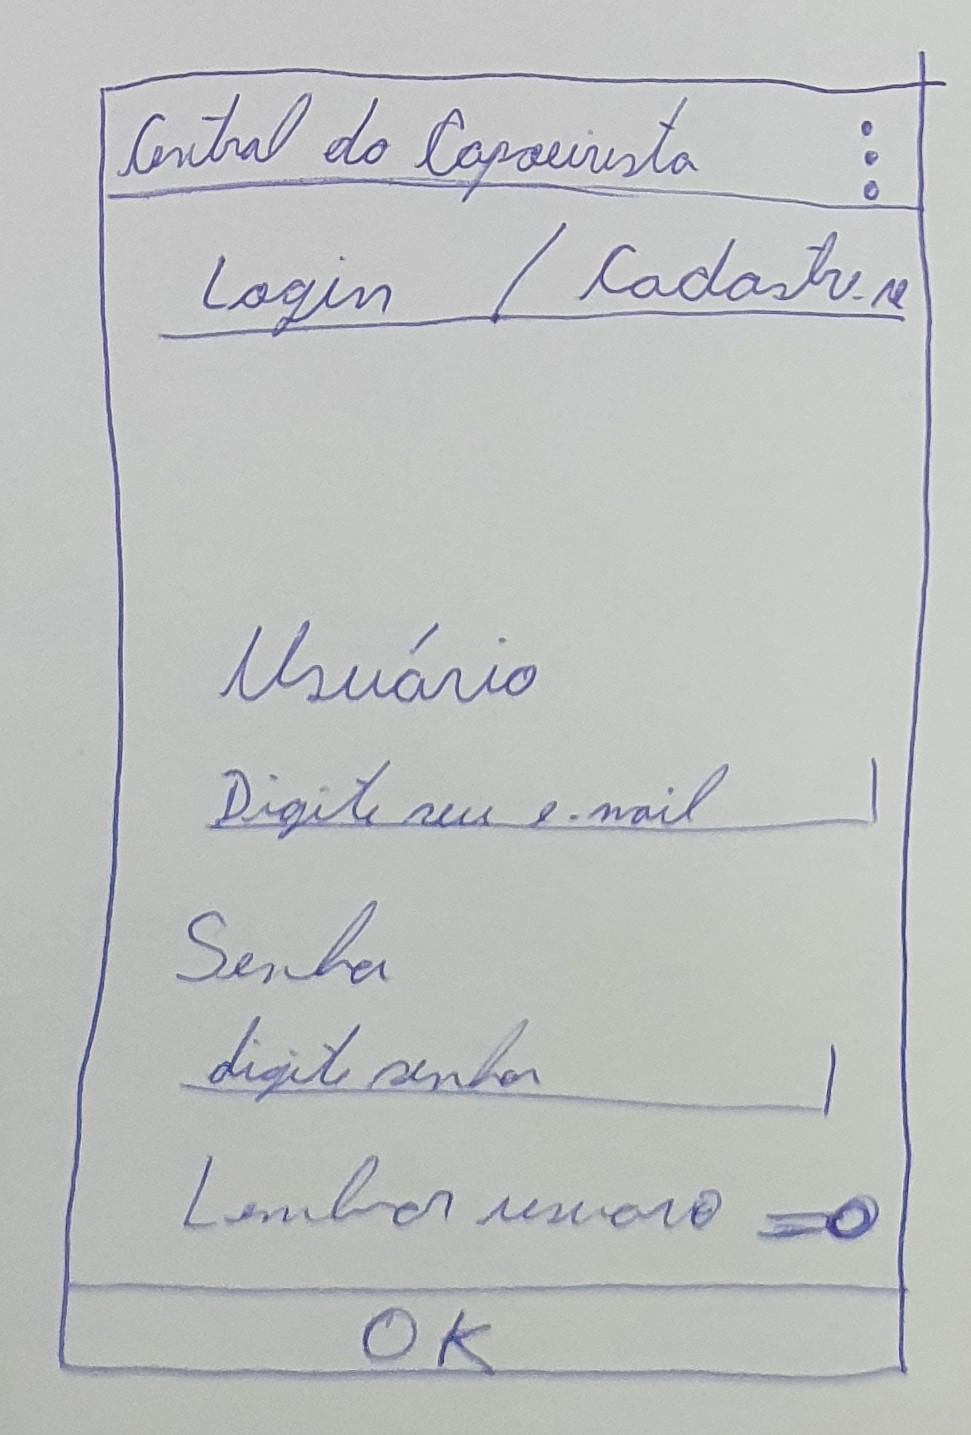Button: (101, 173, 569, 338), (56, 1285, 906, 1375), (492, 189, 932, 325)
Label: (115, 90, 702, 202), (217, 621, 554, 712), (174, 899, 391, 988), (853, 116, 888, 206)
Screen: (55, 68, 932, 1380)
Switch: (179, 1150, 880, 1242)
TextBox: (177, 1008, 842, 1116), (202, 753, 882, 839)
